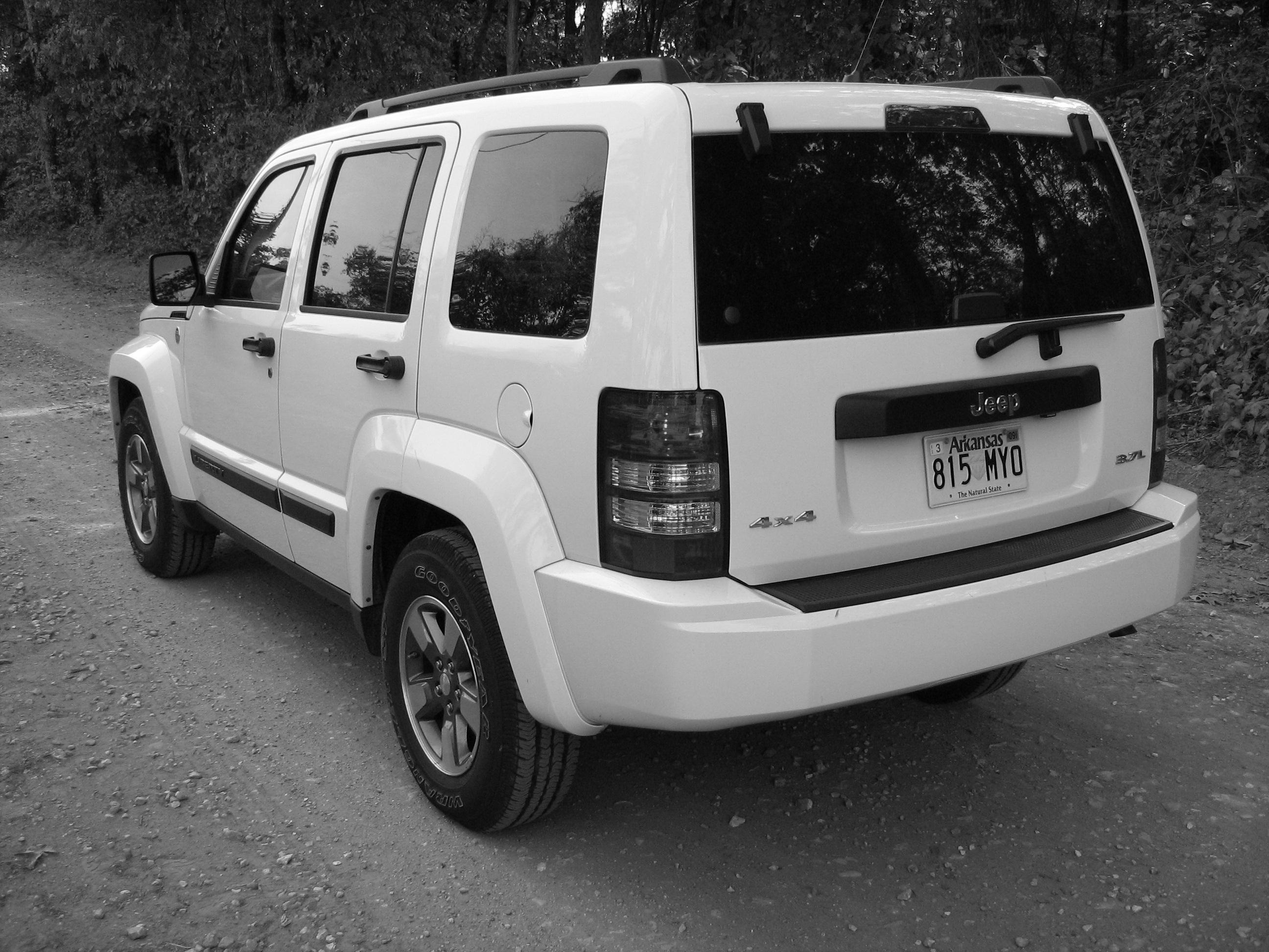car: (100, 53, 1204, 838)
